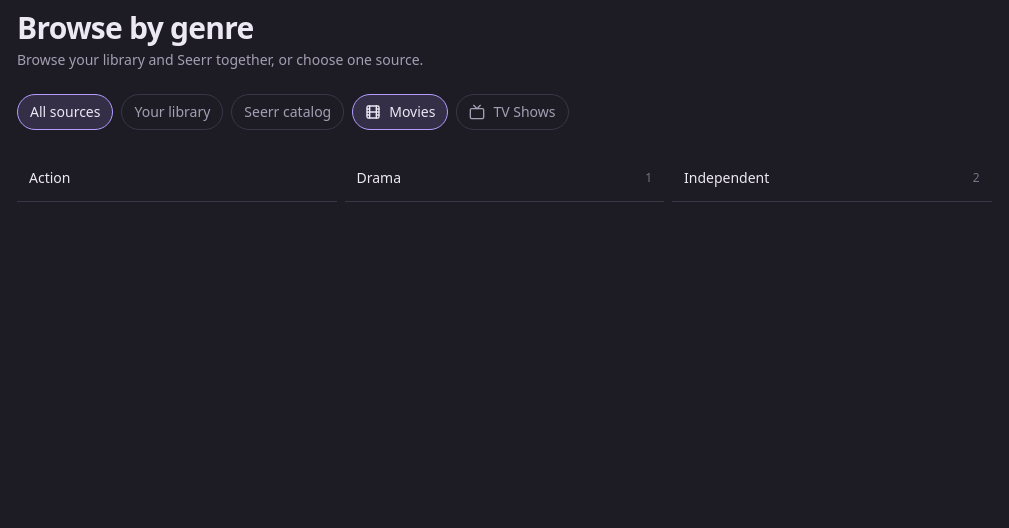
Test: genre categories › combines library and Seerr genres and suppresses Seerr titles already in the library
Expected: the button "Action" is shown, x1=17 y1=154 x2=336 y2=202
Expected: the button "Independent 2" is shown, x1=672 y1=154 x2=992 y2=202
Click the button "Drama 1".
click(379, 177)  # box x1=344 y1=154 x2=664 y2=202
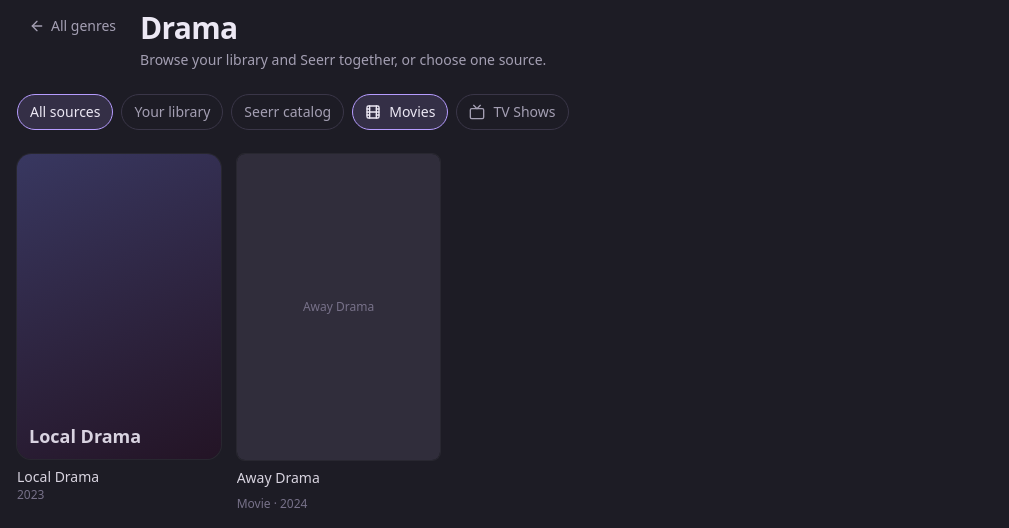
Expected: the link "Local Drama Local Drama 2023" is shown, x1=17 y1=154 x2=221 y2=504
Expected: the button "Away Drama Away Drama Movie · 2024" is shown, x1=237 y1=154 x2=440 y2=512
